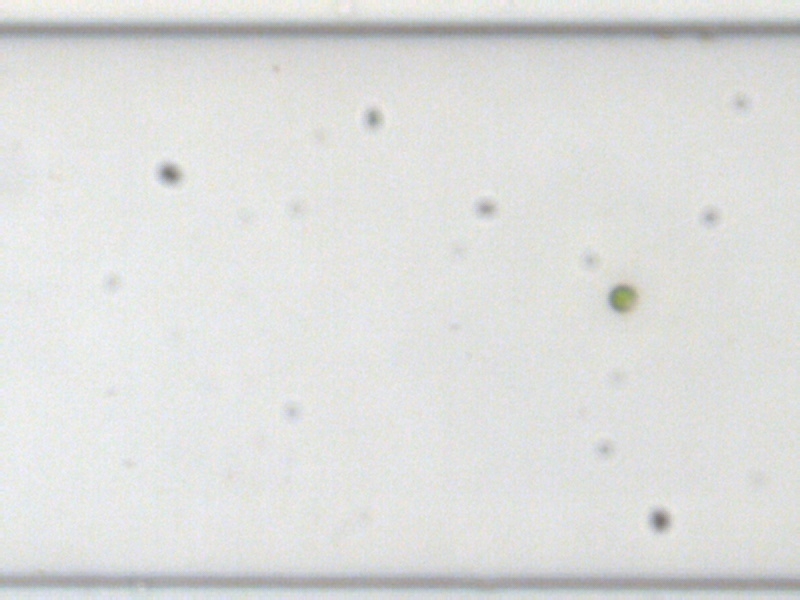Chlorella: (608, 281, 639, 313)
